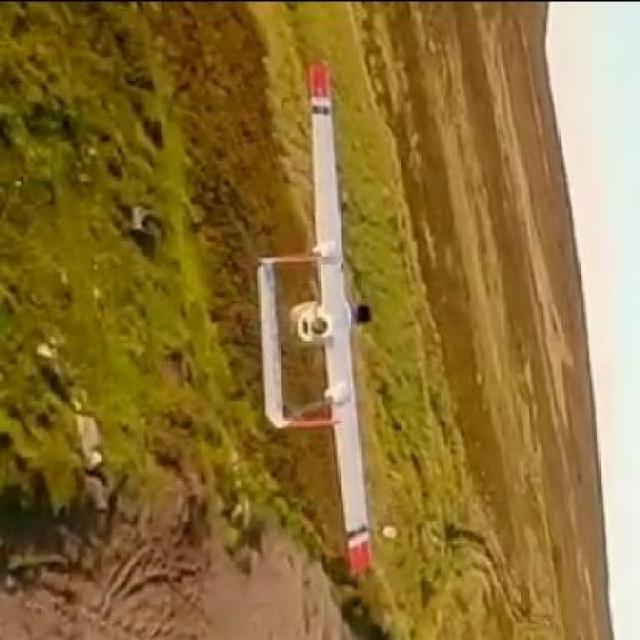iha: (257, 50, 389, 580)
